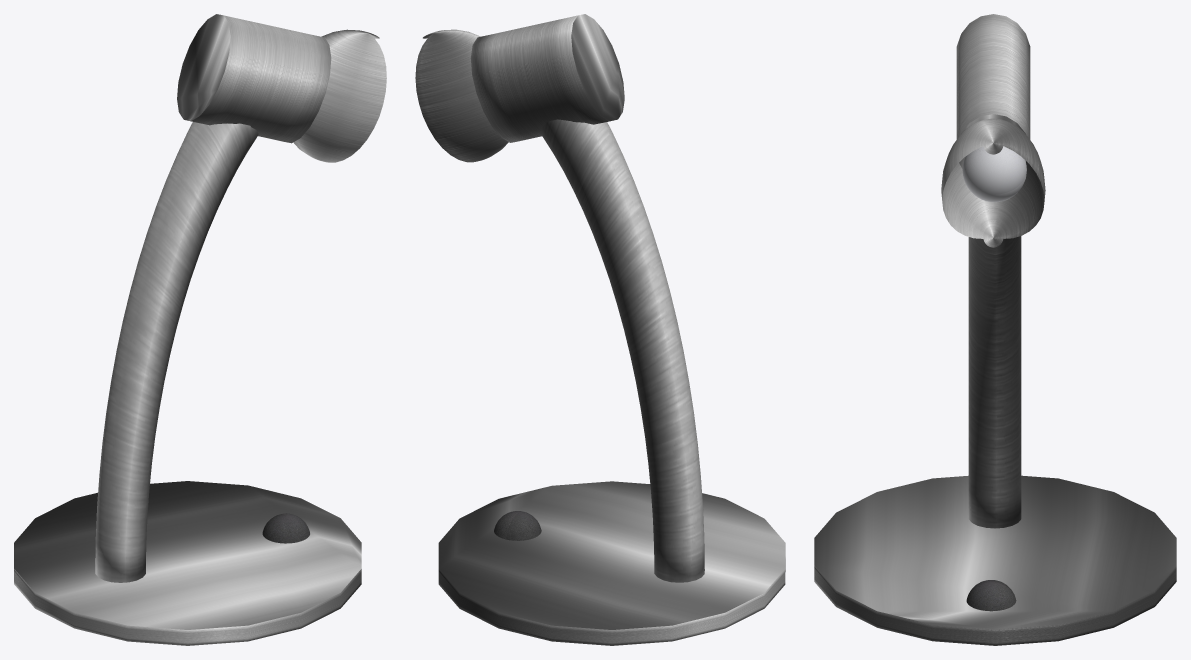
File: DesktopLamp.obj
3 renders of one model, left to right at view 1: azimuth 30°, elevation 25°; view 2: azimuth 150°, elevation 25°; view 3: azimuth 270°, elevation 25°, orthographic. The views are drawn at different scales.
Parts seen in each view (by area): view 1: DesktopLampBase, DesktopLampTube, DesktopLampCanyon, DesktopLampBulbHolder, DesktopLampButton; view 2: DesktopLampBase, DesktopLampTube, DesktopLampCanyon, DesktopLampBulbHolder, DesktopLampButton; view 3: DesktopLampBase, DesktopLampTube, DesktopLampCanyon, DesktopLampBulbHolder, BulbSphere, DesktopLampButton.
Boxes of the visible parts, bbox=[...] form: DesktopLampBase: bbox=[14, 481, 361, 645]; DesktopLampTube: bbox=[95, 122, 258, 582]; DesktopLampCanyon: bbox=[177, 14, 331, 143]; DesktopLampBulbHolder: bbox=[293, 29, 386, 162]; DesktopLampButton: bbox=[262, 513, 309, 543]; DesktopLampBase: bbox=[438, 481, 785, 645]; DesktopLampTube: bbox=[540, 119, 704, 582]; DesktopLampCanyon: bbox=[470, 14, 624, 142]; DesktopLampBulbHolder: bbox=[415, 29, 508, 162]; DesktopLampButton: bbox=[494, 511, 541, 540]; DesktopLampBase: bbox=[814, 475, 1176, 645]; DesktopLampTube: bbox=[968, 236, 1021, 528]; DesktopLampCanyon: bbox=[956, 14, 1030, 168]; DesktopLampBulbHolder: bbox=[941, 118, 1045, 247]; BulbSphere: bbox=[962, 146, 1026, 202]; DesktopLampButton: bbox=[966, 580, 1016, 611].
Size of the model in its own units: 0.3333 by 0.5098 by 0.2929.
